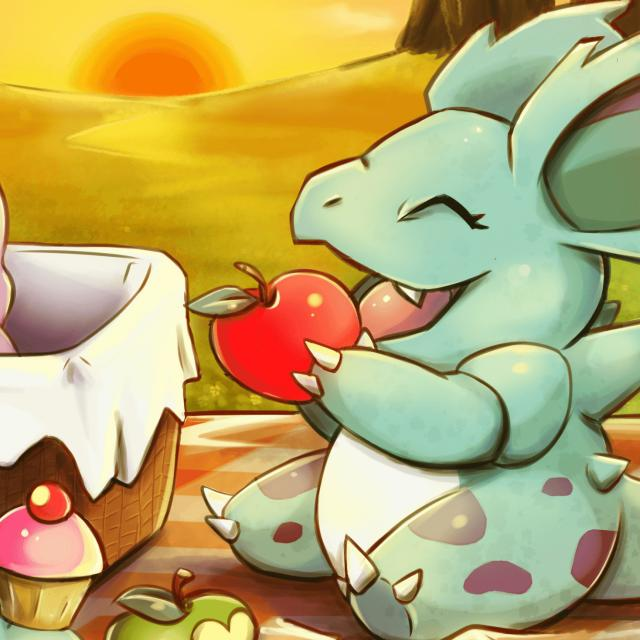Nidorina: (253, 18, 637, 640)
